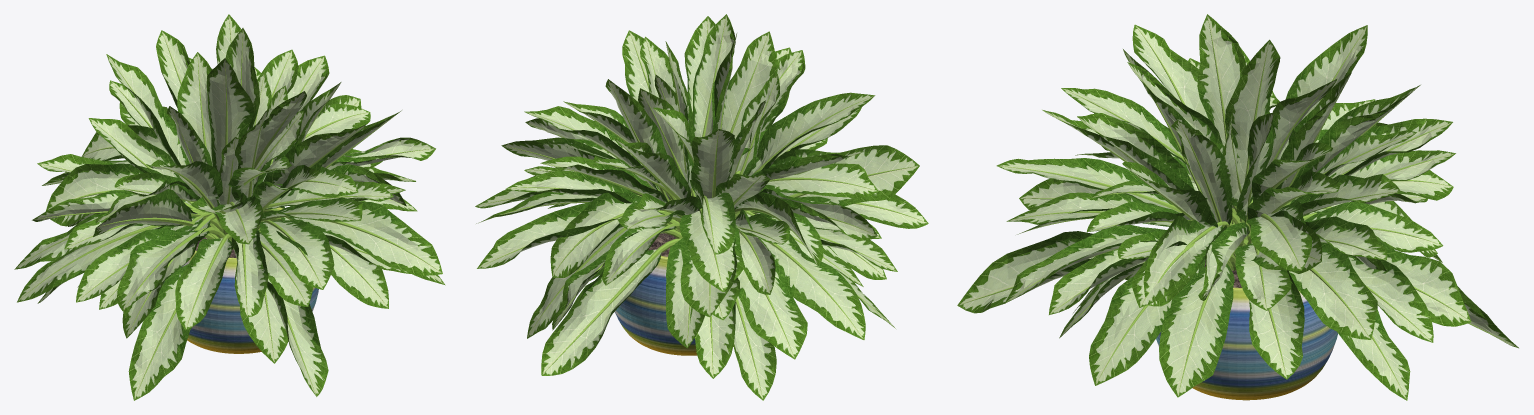
File: Plant house vase N250620.obj
3 views of the same model, side by side, from view 1: azimuth 30°, elevation 25°; view 2: azimuth 150°, elevation 25°; view 3: azimuth 270°, elevation 25° (orthographic). The views are drawn at different scales.
Visible parts, largest first — view 1: Arch41_060_obj_1, Arch41_060_obj_4, Arch41_060_obj_2; view 2: Arch41_060_obj_1, Arch41_060_obj_4, Arch41_060_obj_2; view 3: Arch41_060_obj_1, Arch41_060_obj_4, Arch41_060_obj_2.
Boxes of the visible parts, <box> form: Arch41_060_obj_1: <box>14,14,445,400</box>; Arch41_060_obj_4: <box>19,17,442,395</box>; Arch41_060_obj_2: <box>162,207,318,353</box>; Arch41_060_obj_1: <box>475,14,928,400</box>; Arch41_060_obj_4: <box>478,18,925,395</box>; Arch41_060_obj_2: <box>614,255,733,355</box>; Arch41_060_obj_1: <box>957,14,1518,400</box>; Arch41_060_obj_4: <box>959,18,1510,397</box>; Arch41_060_obj_2: <box>1156,287,1337,400</box>.
Bounding box in the file's own units: 32.41 × 23.29 × 34.45.
